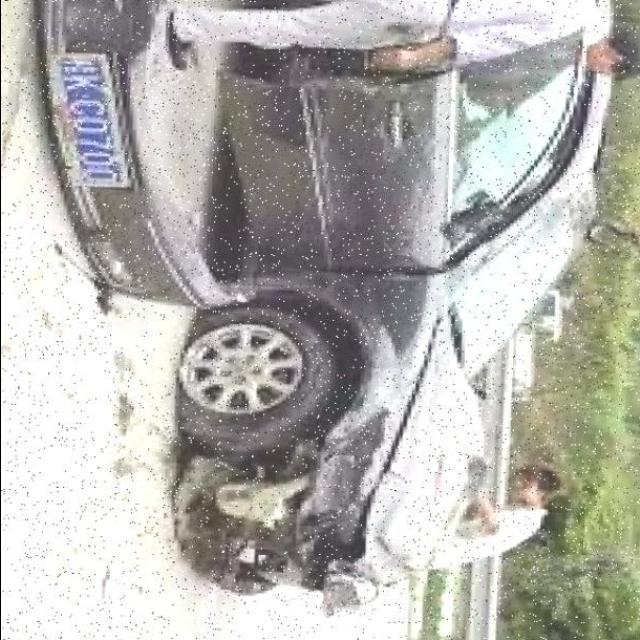accident: (133, 271, 543, 625)
